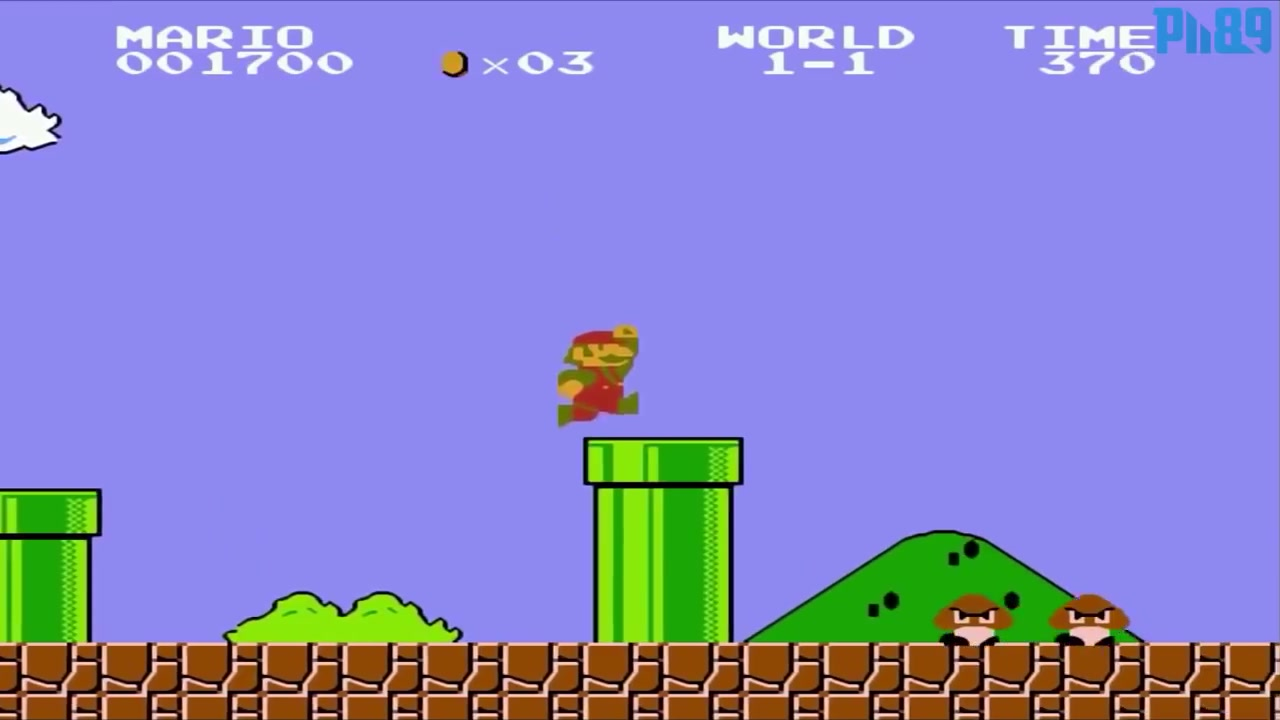mario: (546, 318, 647, 429)
